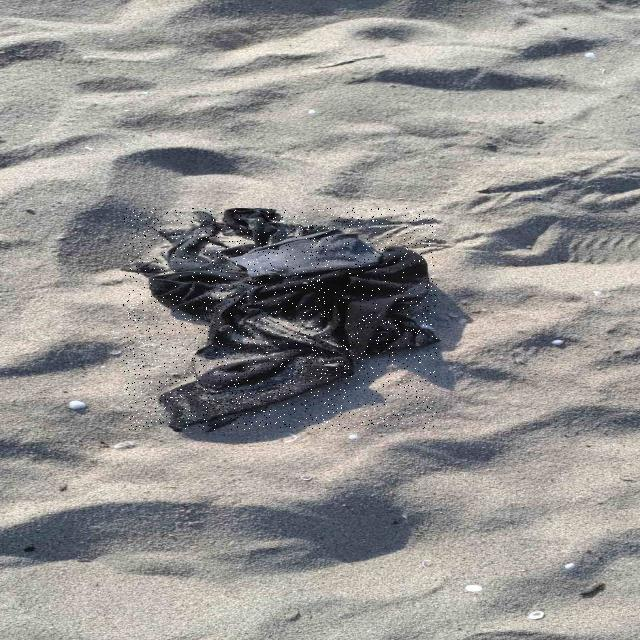other: (123, 208, 437, 430)
